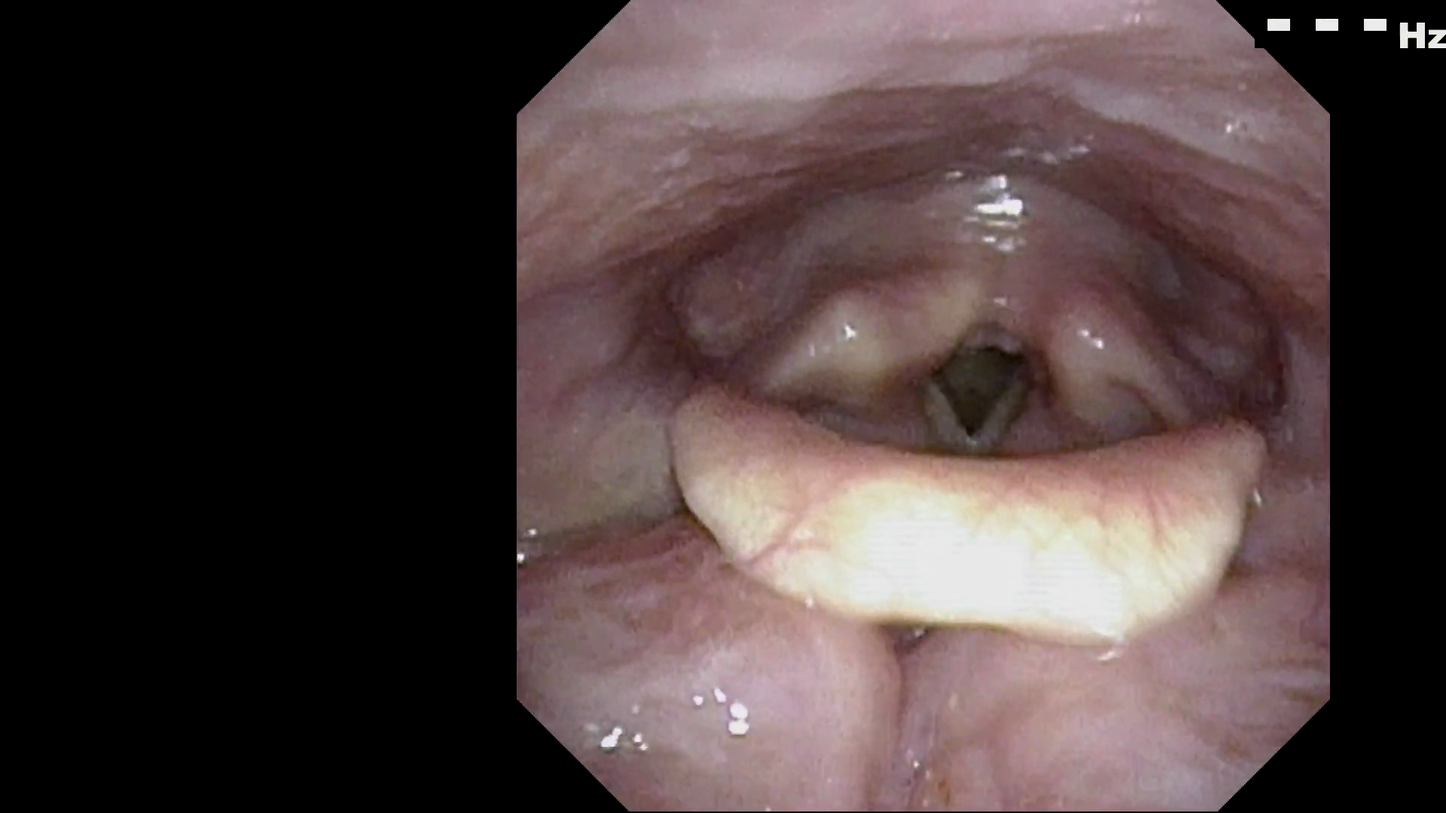epiglottis: (655, 377, 1272, 649)
trachea: (901, 311, 1057, 474)
